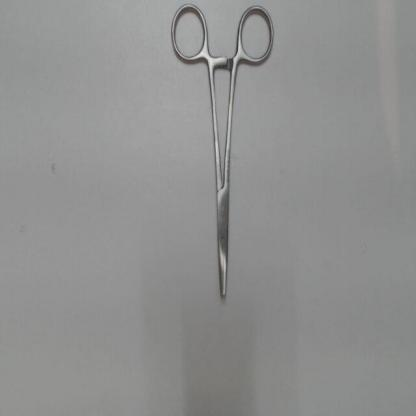Crile Artery Forceps: (168, 2, 279, 305)
